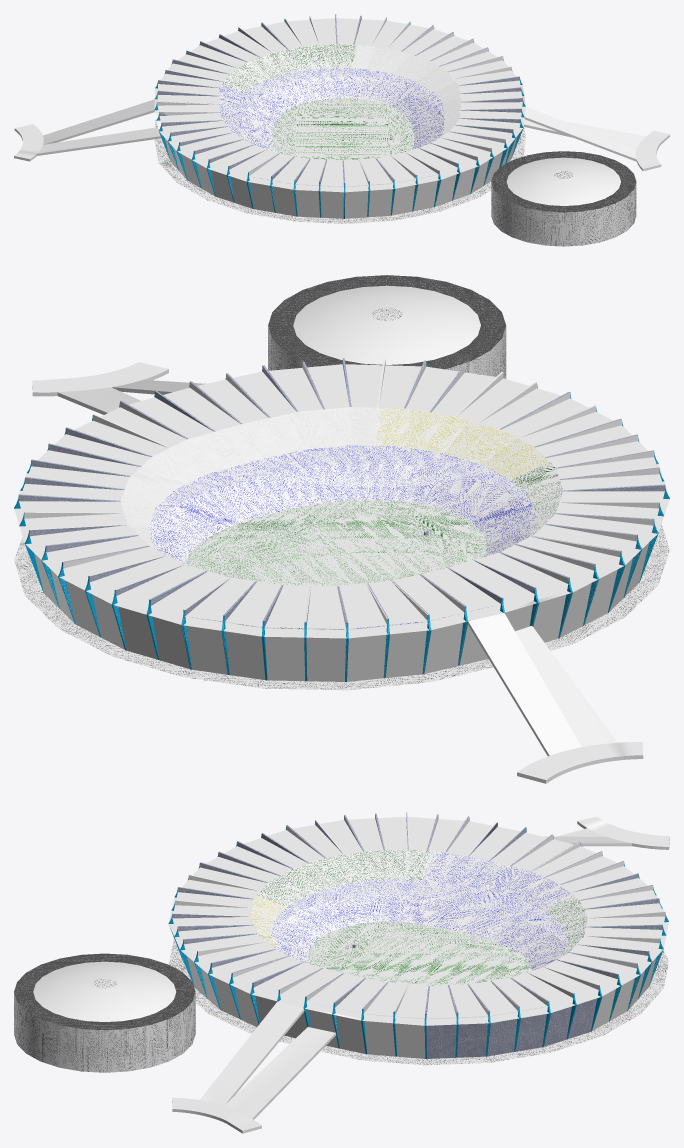
The model's file is marcana.fbx.
3 renders of one model, top to bottom at view 1: azimuth 30°, elevation 25°; view 2: azimuth 150°, elevation 25°; view 3: azimuth 270°, elevation 25°, orthographic. The views are drawn at different scales.
Visible parts, largest first — view 1: Model; view 2: Model; view 3: Model.
Boxes of the visible parts, x1,y1,x2,y2 form: Model: (14,14,669,246); Model: (14,275,669,783); Model: (14,812,669,1133).
Bounding box in the file's own units: 469 × 44.06 × 414.
